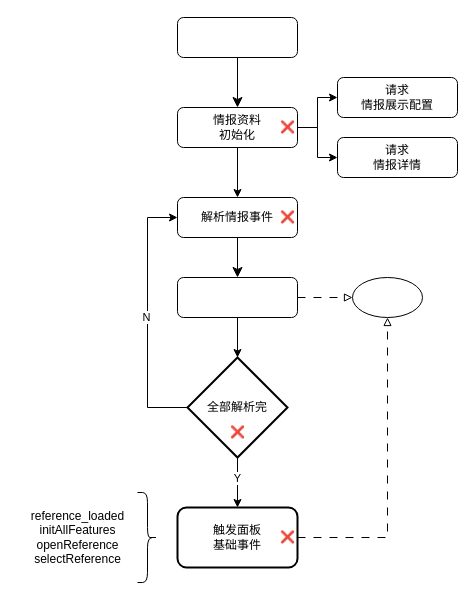
Image size: 475x600. Some labels were removed from this diagram. Each missing label, with the centre of its shape:
编辑平台: point (387, 297)
编辑平台/资料面板 加载: point (237, 37)
触发对应事件: point (237, 297)
